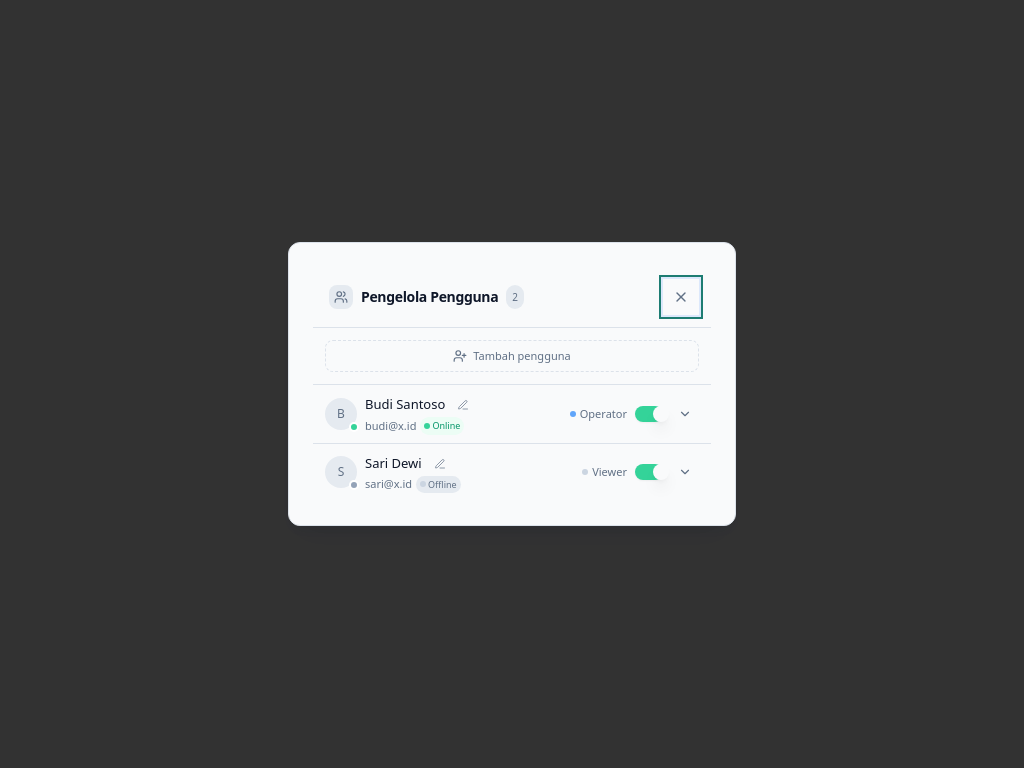
Tombol tutup › keduanya punya nama aksesibel
Expected: the button named "Tutup pengelola pengguna" is shown, [663,279,699,315]
Click the button with test id "add-user-btn": (512, 356) [325,340,699,372]
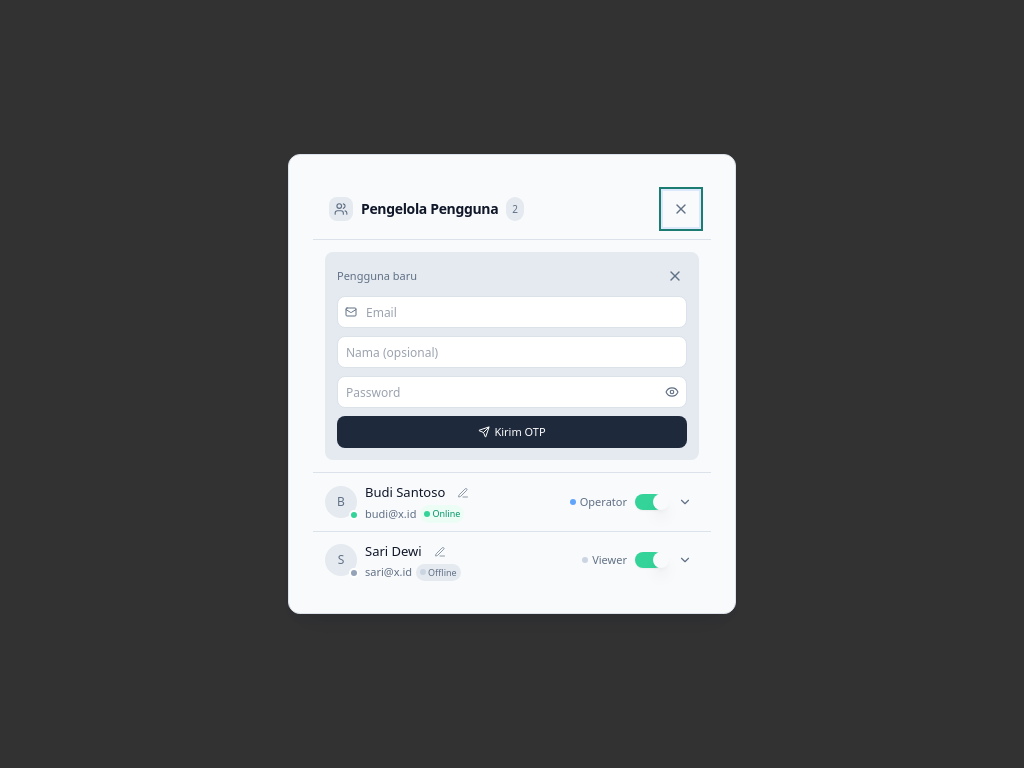
Expected: the button named "Batalkan penambahan pengguna" is shown, [659,260,691,292]
